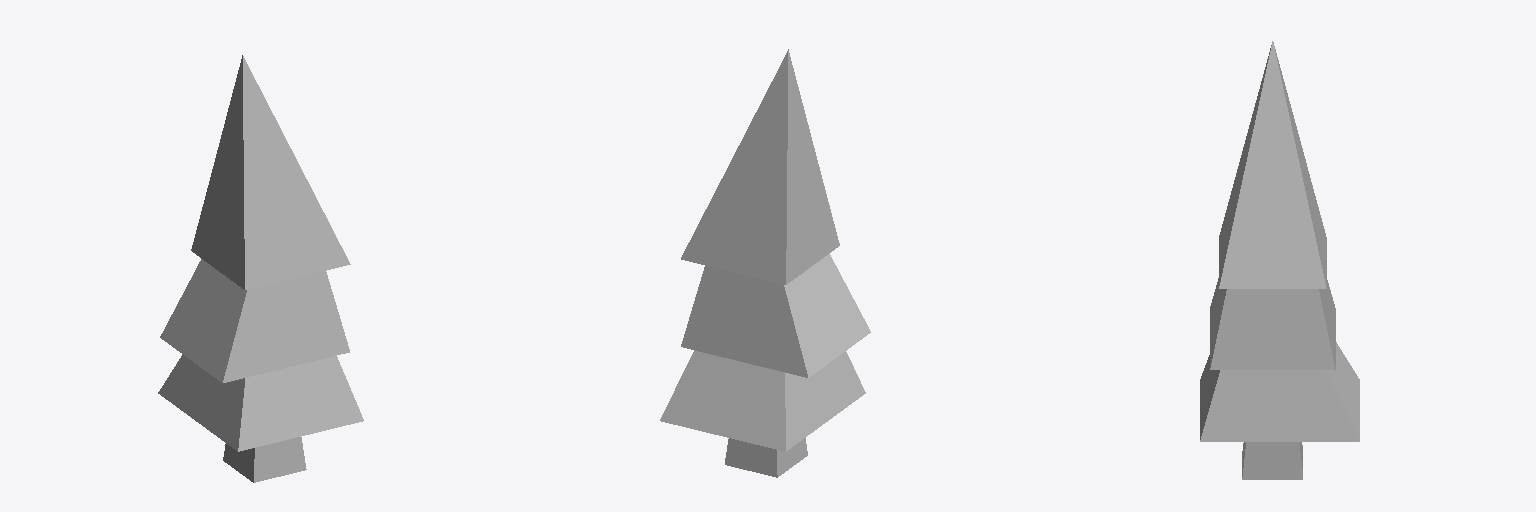
File: tree_pineSmall_square2.obj
3 views of the same model, side by side, from view 1: azimuth 30°, elevation 25°; view 2: azimuth 150°, elevation 25°; view 3: azimuth 270°, elevation 25° (orthographic).
Parts seen in each view (by area): view 1: tree_pineSmall_square2; view 2: tree_pineSmall_square2; view 3: tree_pineSmall_square2.
Boxes of the visible parts, box(x1,y1,x2,y2) form: tree_pineSmall_square2: box(158, 55, 363, 482); tree_pineSmall_square2: box(660, 49, 870, 477); tree_pineSmall_square2: box(1200, 41, 1359, 479).
Bounding box in the file's own units: 3.86 × 11.23 × 3.92.